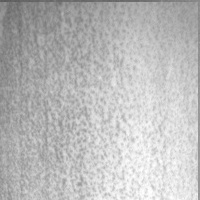pitted_surface: (0, 2, 198, 200)
scratches: (111, 58, 142, 153), (32, 15, 47, 43)
